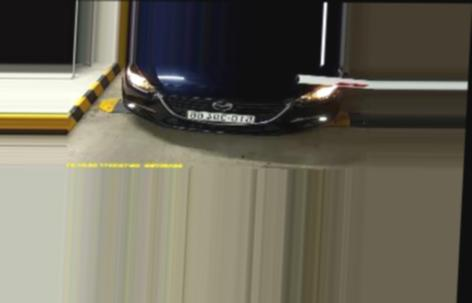License_Plate: (184, 109, 253, 124)
